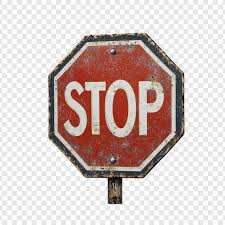stop sign: (48, 33, 185, 178)
